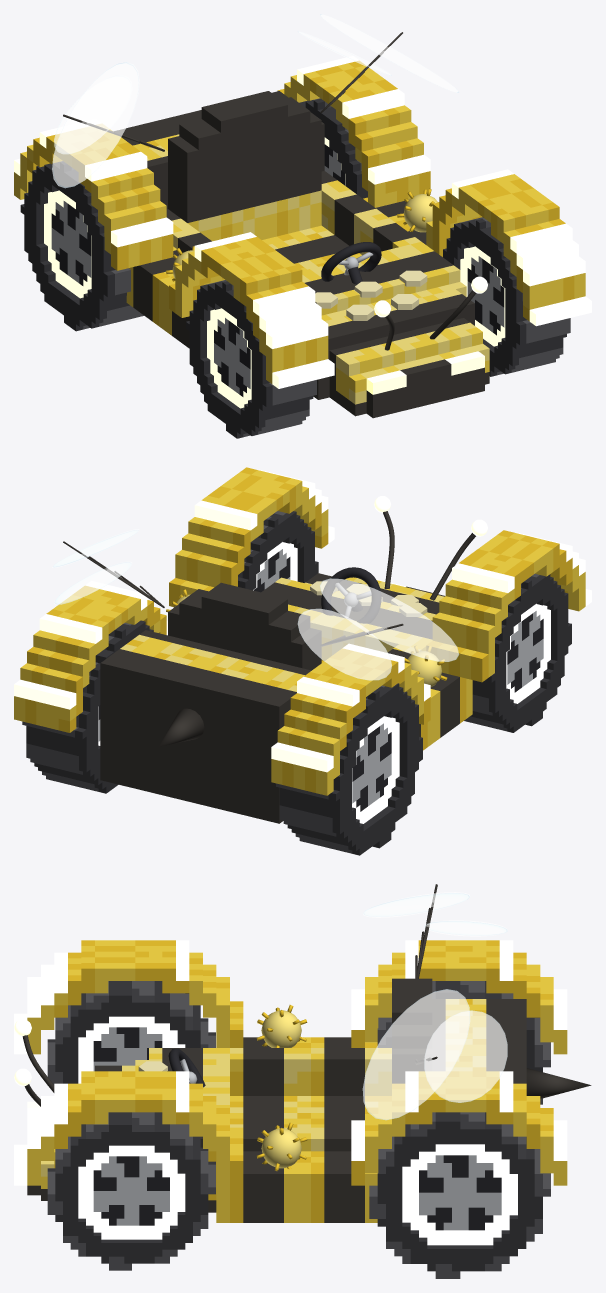
File: K10_PollenBee.glb
The picture shows the model from 3 angles, top to bottom: view 1: azimuth 30°, elevation 25°; view 2: azimuth 150°, elevation 25°; view 3: azimuth 270°, elevation 25°; orthographic projection. The views are drawn at different scales.
Parts seen in each view (by area): view 1: K10_PollenBee_Mesh, K10_Wheel_RL, K10_Wheel_FL, K10_Wheel_FR, K10_Wheel_RR; view 2: K10_PollenBee_Mesh, K10_Wheel_RL, K10_Wheel_FL, K10_Wheel_RR, K10_Wheel_FR; view 3: K10_PollenBee_Mesh, K10_Wheel_RR, K10_Wheel_FR, K10_Wheel_FL, K10_Wheel_RL.
Boxes of the visible parts, <box> form: K10_PollenBee_Mesh: <box>14,14,591,418</box>; K10_Wheel_RL: <box>20,161,143,331</box>; K10_Wheel_FL: <box>186,280,316,438</box>; K10_Wheel_FR: <box>443,217,570,376</box>; K10_Wheel_RR: <box>299,98,367,198</box>; K10_PollenBee_Mesh: <box>14,467,591,823</box>; K10_Wheel_RL: <box>276,683,422,855</box>; K10_Wheel_FL: <box>464,574,571,732</box>; K10_Wheel_RR: <box>22,620,153,793</box>; K10_Wheel_FR: <box>238,511,318,592</box>; K10_PollenBee_Mesh: <box>14,884,591,1222</box>; K10_Wheel_RR: <box>369,1112,550,1278</box>; K10_Wheel_FR: <box>47,1112,215,1270</box>; K10_Wheel_FL: <box>47,981,215,1084</box>; K10_Wheel_RL: <box>377,981,550,1104</box>.
Bounding box in the file's own units: 2.14 × 1.27 × 2.57.
